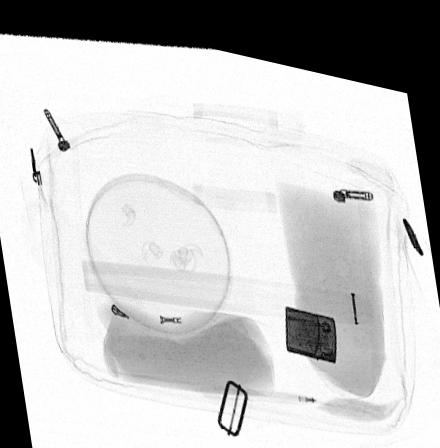Lighter: (285, 291, 336, 345)
